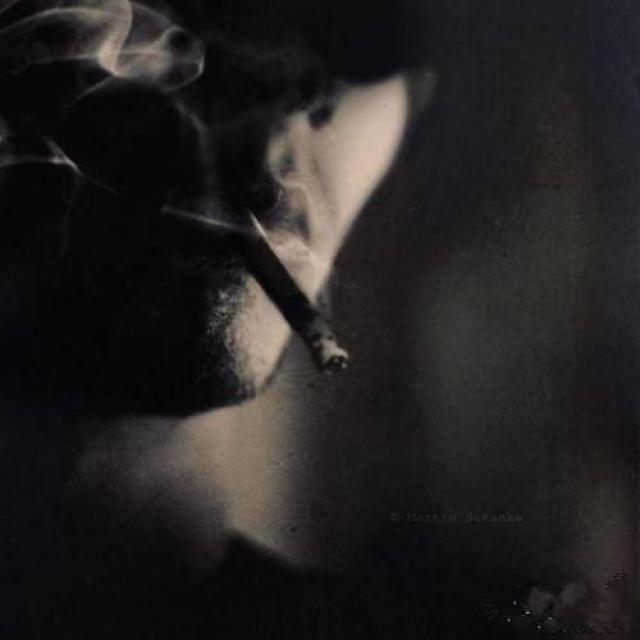smoke: (202, 187, 364, 404)
